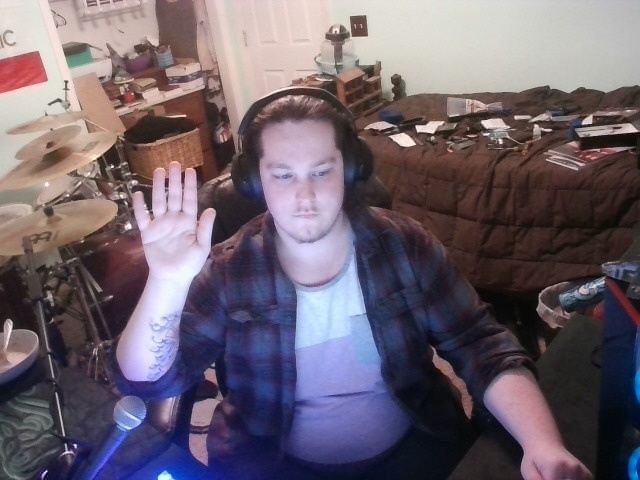hello: (83, 153, 231, 313)
